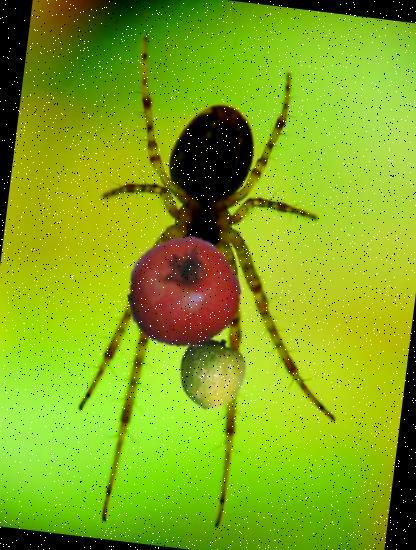Limes: (171, 334, 251, 414)
Pomegranate: (121, 229, 246, 354)
